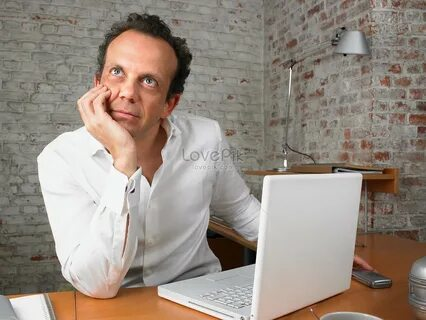awake: (35, 11, 261, 299)
